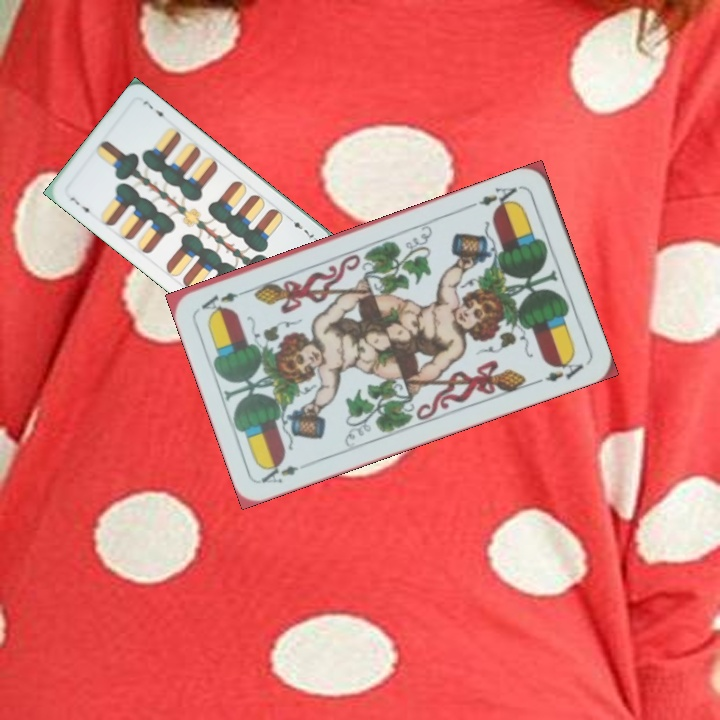E7: (283, 212, 318, 243), (66, 193, 95, 219)
EA: (467, 181, 524, 213), (257, 457, 303, 486)
